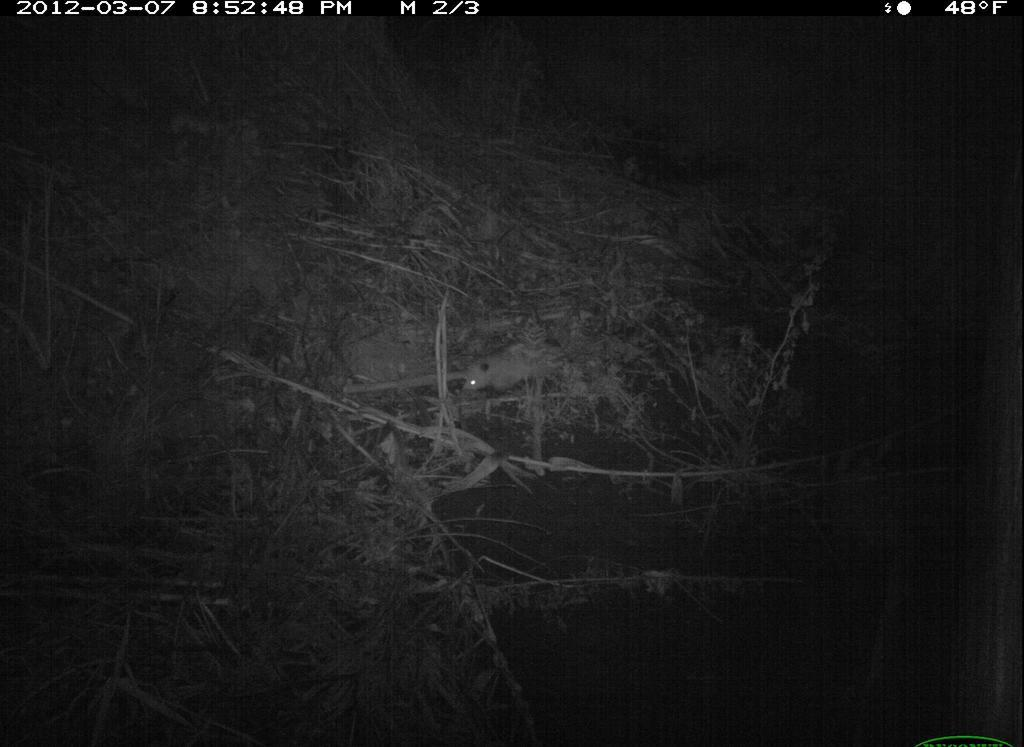opossum: (451, 329, 583, 419)
